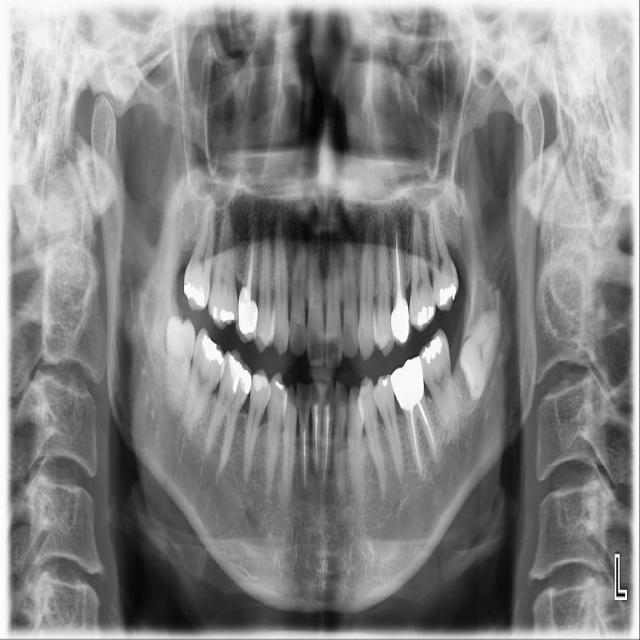52: (178, 324, 241, 390), (215, 347, 256, 408), (386, 355, 430, 411), (205, 277, 241, 332), (418, 327, 451, 387), (429, 258, 463, 312), (182, 253, 212, 314), (407, 285, 438, 333), (387, 298, 413, 349), (234, 294, 259, 344), (247, 368, 274, 414), (371, 373, 396, 417), (266, 371, 288, 419)
73: (398, 390, 445, 478), (239, 216, 261, 301), (390, 220, 408, 307), (320, 405, 335, 485), (299, 417, 310, 492), (312, 404, 322, 476), (611, 563, 615, 573)
BioHorizons Implant: (426, 189, 460, 312)
Biomet 3i Implant: (450, 303, 506, 403)
Blue Sky Bio Implant: (414, 326, 463, 439)
Caries: (180, 193, 219, 314)
Implant: (181, 324, 230, 435)
Keystone Dental Implant: (165, 315, 196, 415)
